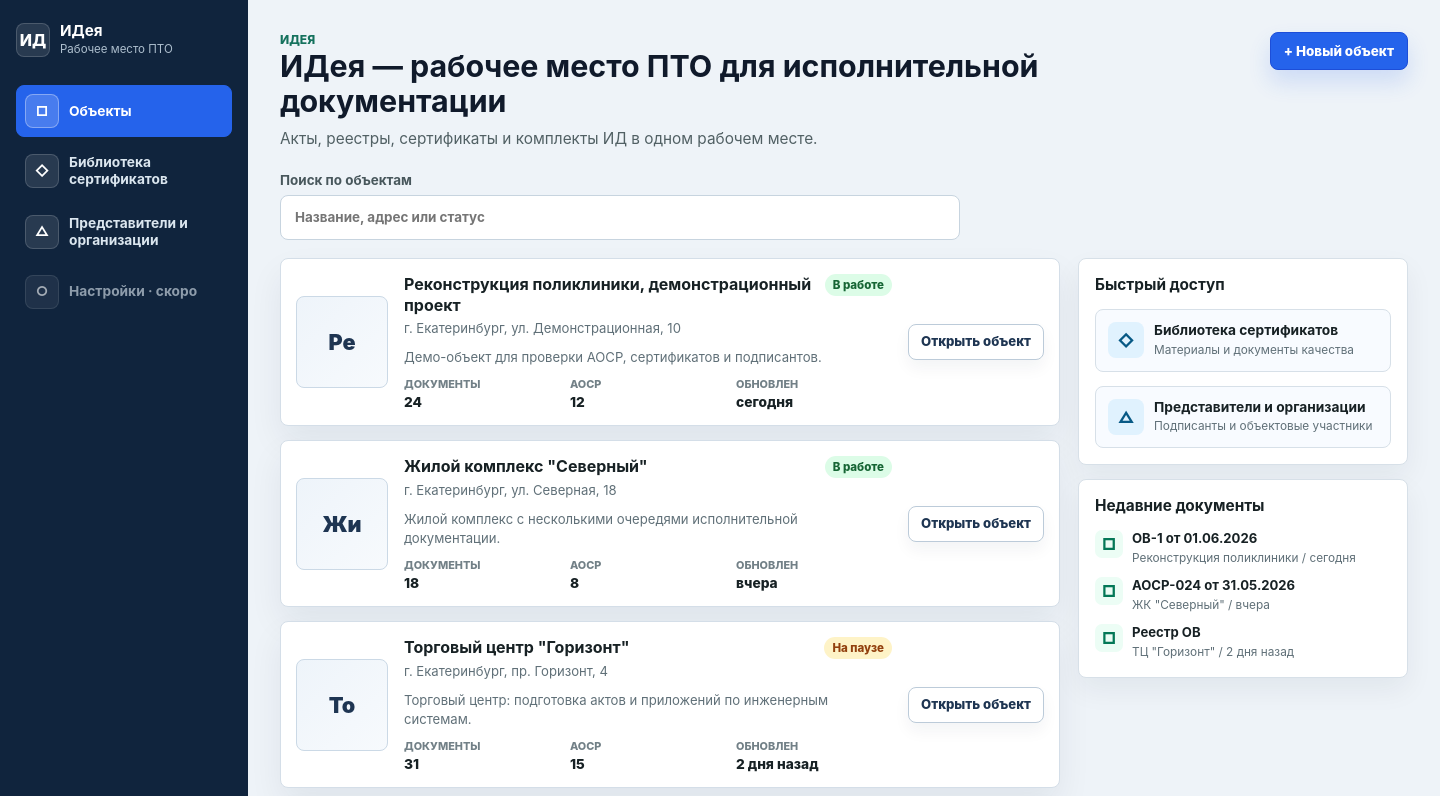
App shell mock navigation › opens the final ID package page with derived summary counts and grouped composition
Click the 1st link "Открыть объект".
click(976, 342)  # box [908,324,1044,360]
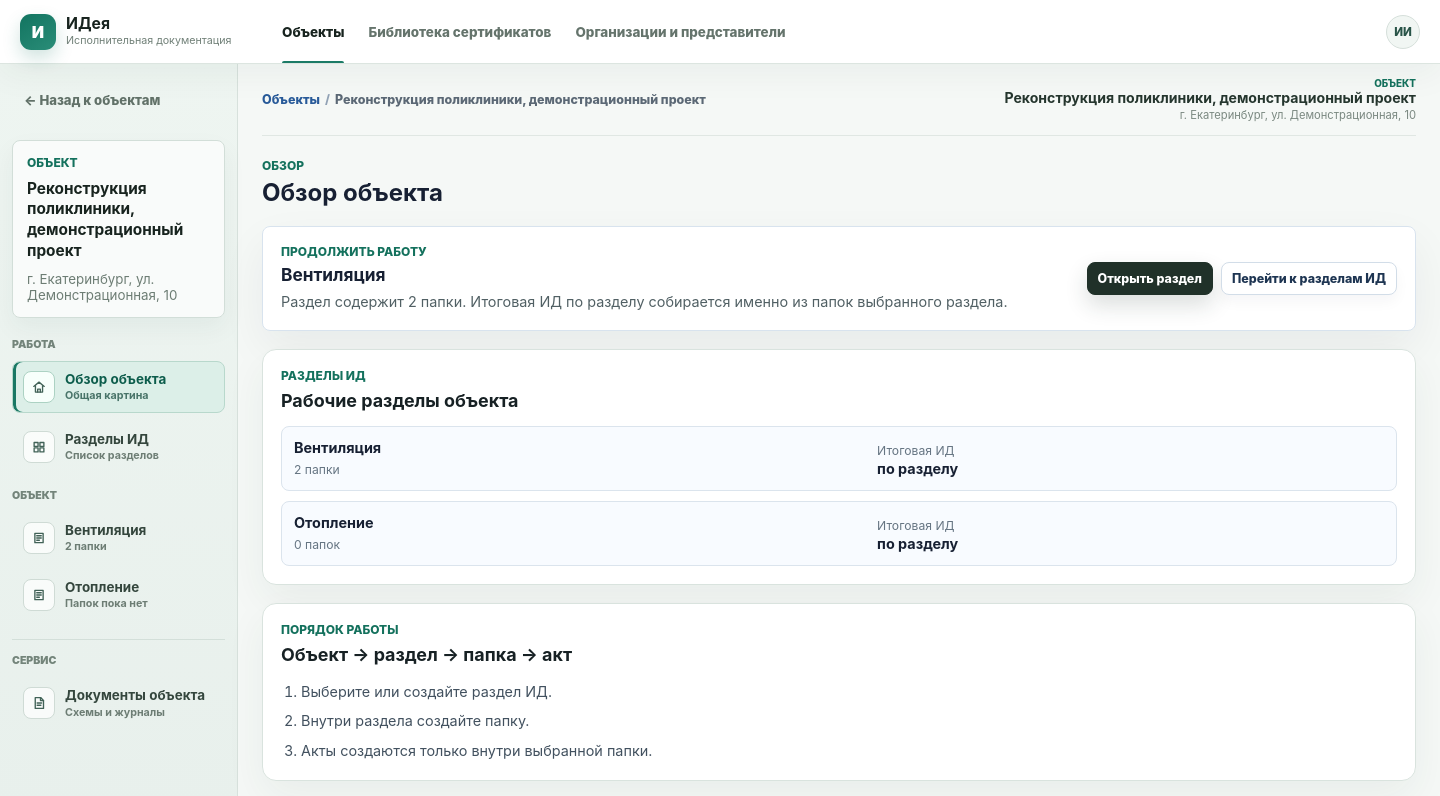
Click the link with aria-label "Открыть раздел Вентиляция".
click(85, 538)  # box [23,522,146,554]
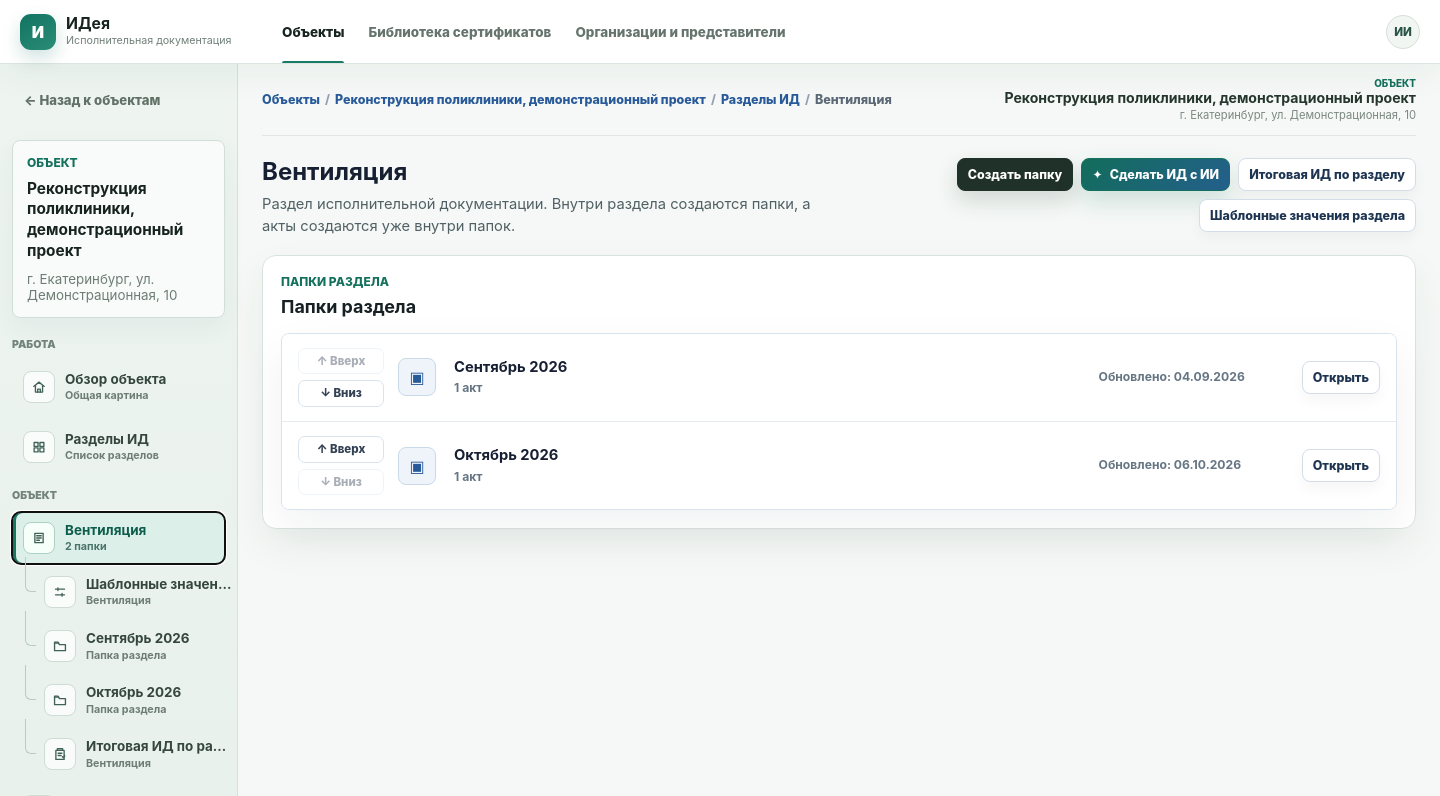
Click the link "Итоговая ИД по разделу Вентиляция".
click(138, 754)  # box [34,728,243,780]
(page scrolled)
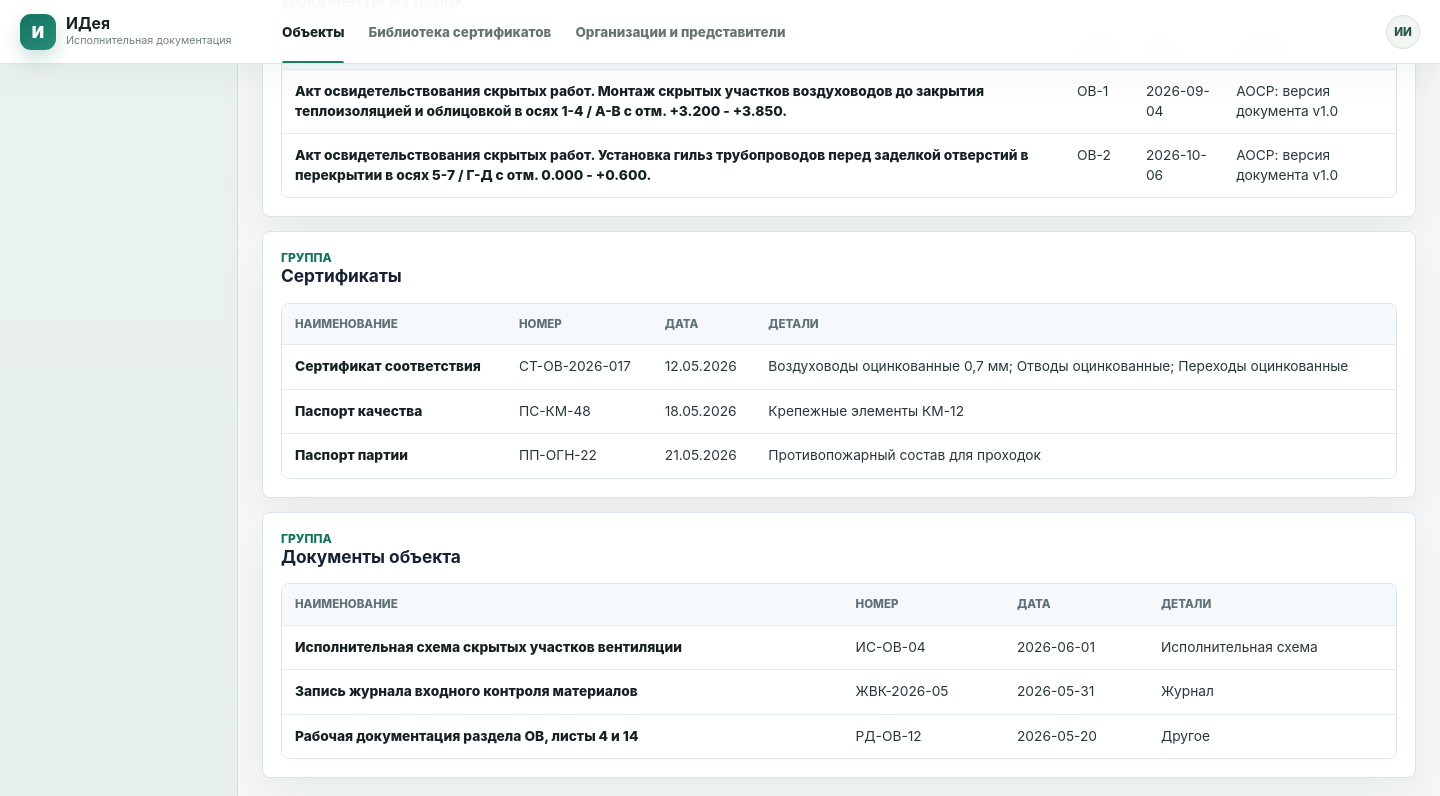
Check: the heading "Сертификаты" is shown, box [281,265,402,286]
Check: the heading "Документы объекта" is shown, box [281,546,461,567]
Check: the text "СТ-ОВ-2026-017" is shown, box [506,345,652,389]
